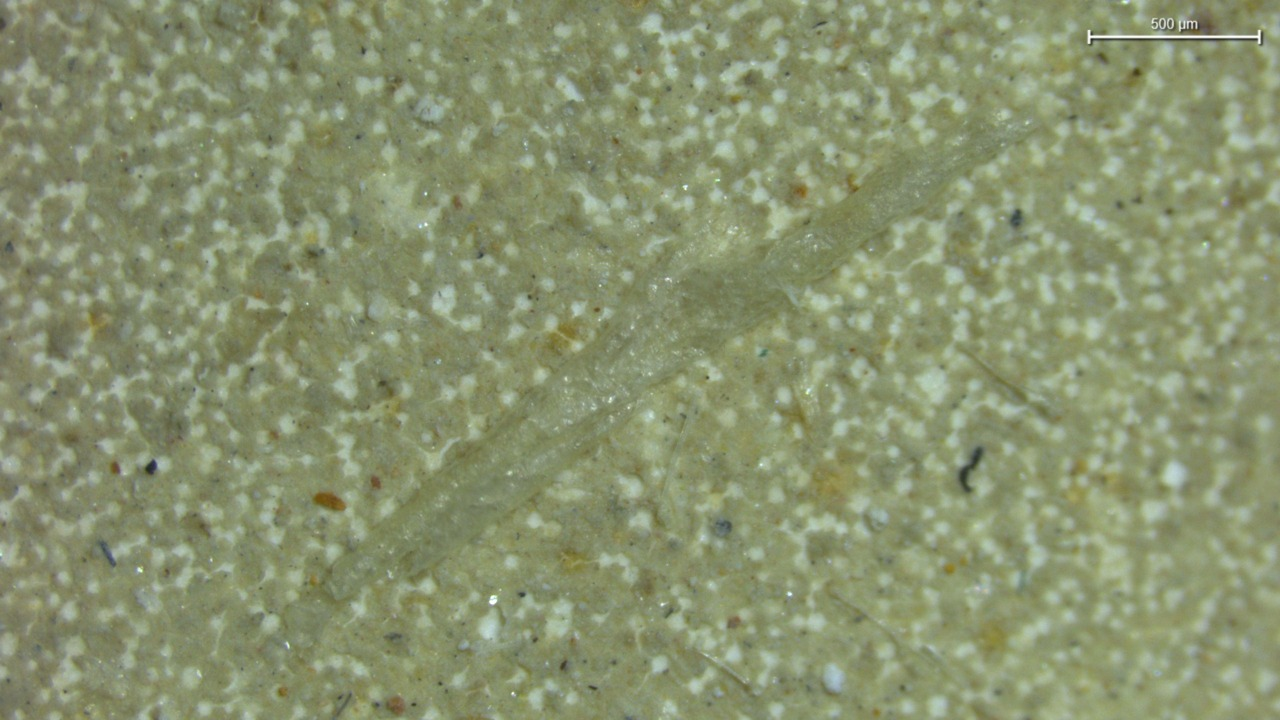microplastic_fragment: (330, 114, 1036, 596)
